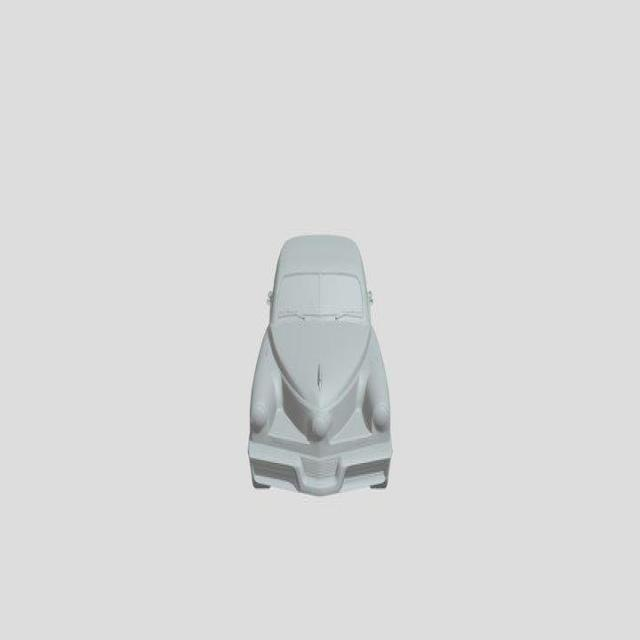Without deffect: (236, 201, 410, 514)
